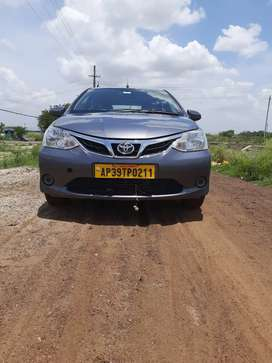AP39TP0211: (93, 163, 155, 179)
